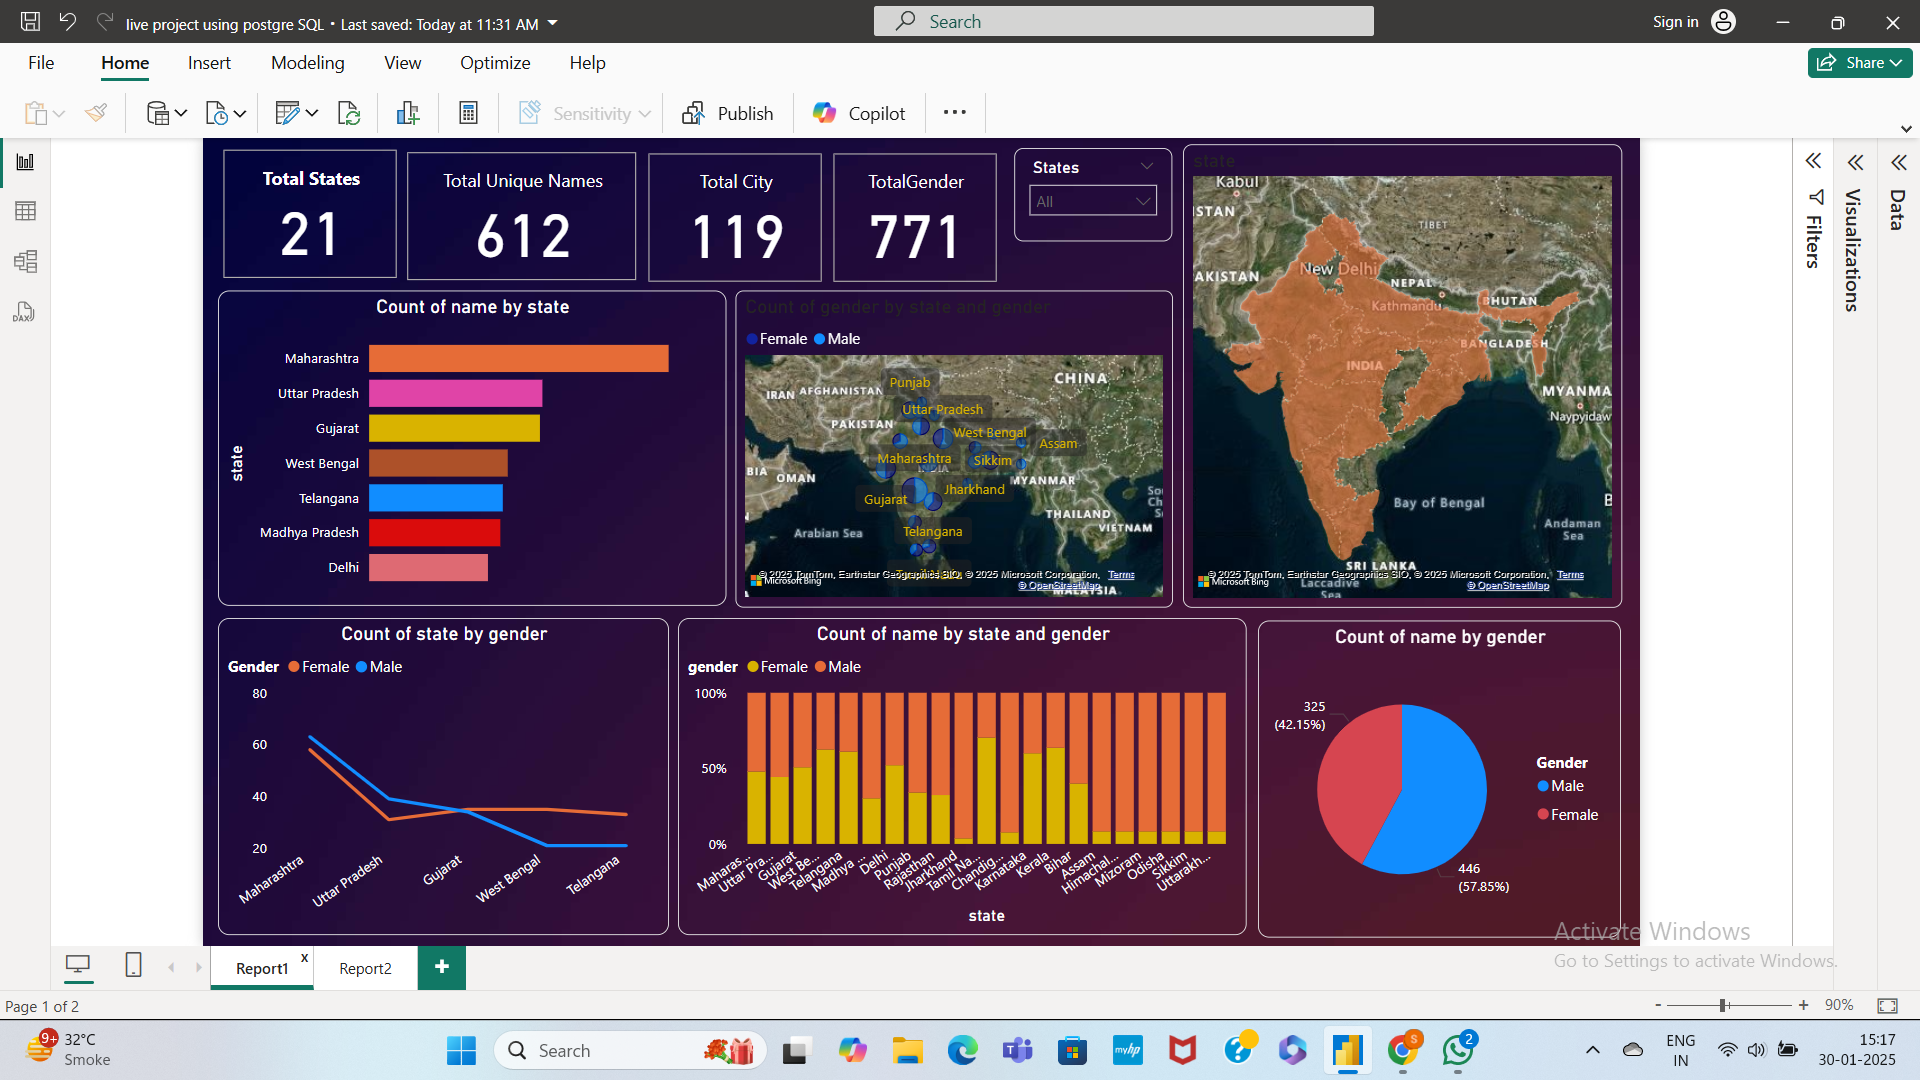

Layout of this report page (visuals, bound fields, positions):
{"tool":"powerbi","page":{"name":"Report1","canvas":[1280,720],"ordinal":0},"visuals":[{"type":"barChart","fields":{"Category":["public customer.state"],"Y":["CountNonNull(public customer.name)"]},"box":[13.3,136.3,452.4,281.1],"z":0},{"type":"hundredPercentStackedColumnChart","fields":{"Category":["public customer.state"],"Series":["public customer.gender"],"Y":["CountNonNull(public customer.name)"]},"box":[423.5,427.1,506.7,282.3],"z":2000},{"type":"lineChart","title":"Count of state by gender","fields":{"Series":["public customer.gender"],"Category":["public customer.state"],"Y":["CountNonNull(public customer.name)"]},"box":[13.3,427.1,401.7,282.3],"z":3000},{"type":"cardVisual","fields":{"Data":["public customer.Total States"]},"box":[13.3,6,164.1,124.3],"z":4000},{"type":"cardVisual","fields":{"Data":["public customer.Total Unique Names"]},"box":[177.3,7.2,214.7,124.3],"z":5000},{"type":"cardVisual","fields":{"Data":["public customer.Total City"]},"box":[392.1,8.4,164.1,124.3],"z":6000},{"type":"slicer","fields":{"Values":["public customer.state"]},"box":[722.7,8.4,141.2,83.2],"z":7000},{"type":"filledMap","fields":{"Category":["public customer.state","public customer.address"]},"box":[872.3,6,390.9,413],"z":8000},{"type":"map","fields":{"Category":["public customer.state"],"Series":["public customer.gender"],"Size":["CountNonNull(public customer.gender)"]},"box":[474.1,136.3,389.7,282.3],"z":9000},{"type":"cardVisual","fields":{"Data":["public customer.TotalGender"]},"box":[556.2,8.4,155.6,124.3],"z":10000},{"type":"pieChart","fields":{"Y":["CountNonNull(public customer.name)"],"Category":["public customer.gender"]},"box":[939.8,429.5,323.3,282.3],"z":10001}]}

Visuals, with their boxes on the page's 1280x720 design canvas (x1, y1, x2, y2). These are canvas units, not pixel positions in the 1920x1080 screenshot, which may show the page scaled, cropped or inside an application window:
barChart - public customer.state x CountNonNull(public customer.name): [13,136,466,417]
hundredPercentStackedColumnChart - public customer.state x public customer.gender: [424,427,930,709]
"Count of state by gender" lineChart: [13,427,415,709]
cardVisual - public customer.Total States: [13,6,177,130]
cardVisual - public customer.Total Unique Names: [177,7,392,132]
cardVisual - public customer.Total City: [392,8,556,133]
slicer - public customer.state: [723,8,864,92]
filledMap - public customer.state x public customer.address: [872,6,1263,419]
map - public customer.state x public customer.gender: [474,136,864,419]
cardVisual - public customer.TotalGender: [556,8,712,133]
pieChart - CountNonNull(public customer.name) x public customer.gender: [940,430,1263,712]
